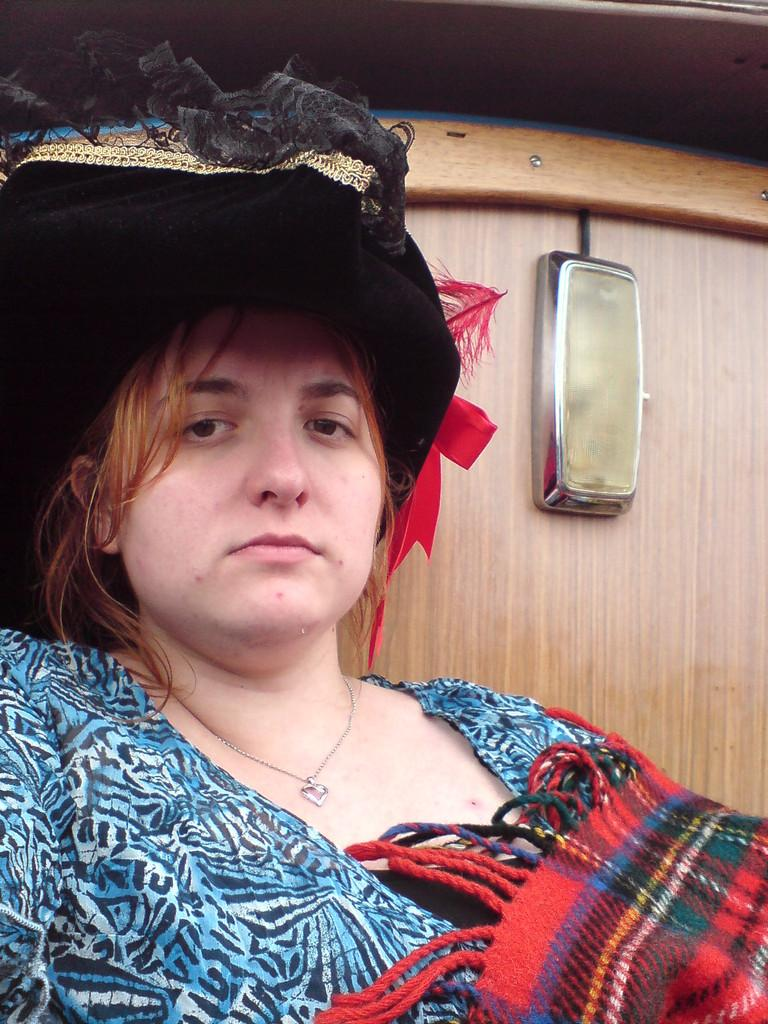Hat: (0, 18, 494, 681)
